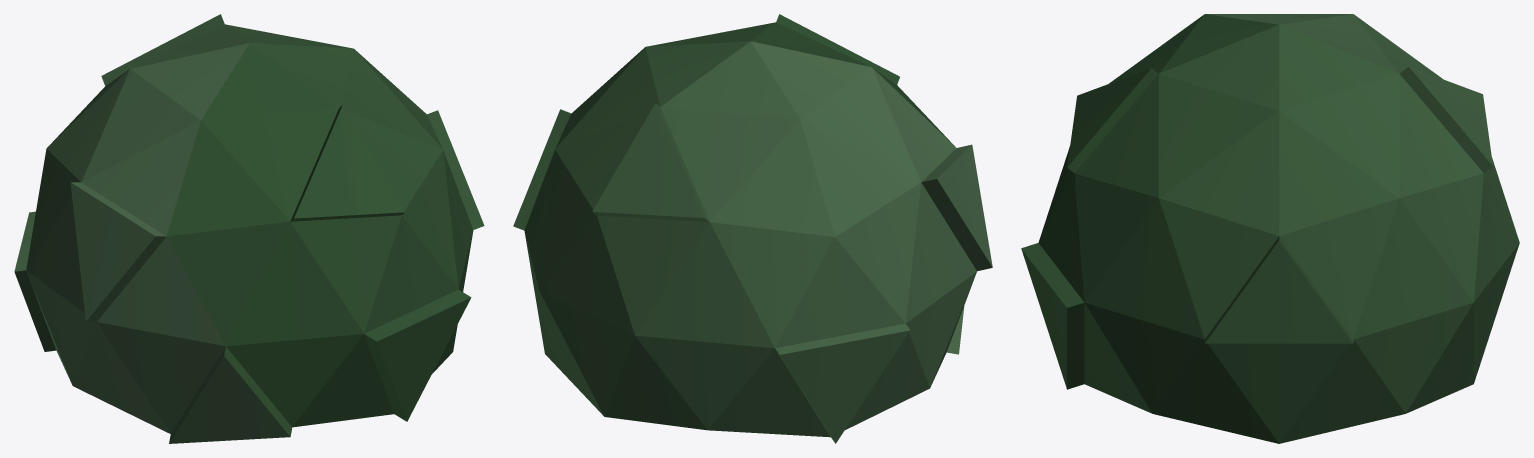
The model's file is arbustofbx.fbx.
The picture shows the model from 3 angles, left to right: view 1: azimuth 30°, elevation 25°; view 2: azimuth 150°, elevation 25°; view 3: azimuth 270°, elevation 25°; orthographic projection. The views are drawn at different scales.
Parts seen in each view (by area): view 1: Icosphere; view 2: Icosphere; view 3: Icosphere.
Boxes of the visible parts, box(x1,y1,x2,y2) form: Icosphere: box(14, 14, 484, 443); Icosphere: box(513, 14, 992, 443); Icosphere: box(1021, 14, 1519, 443).
Size of the model in its own units: 203 by 155 by 207.
Materials: 1 (1 with a texture image).
